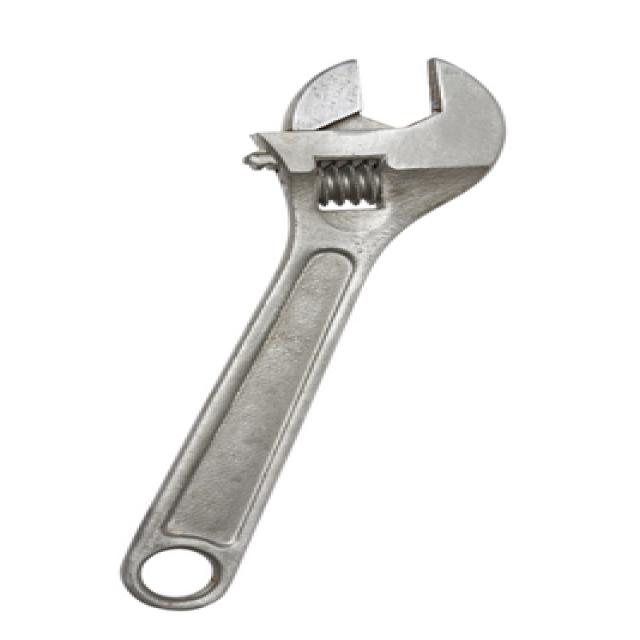wrench: (112, 41, 592, 639)
